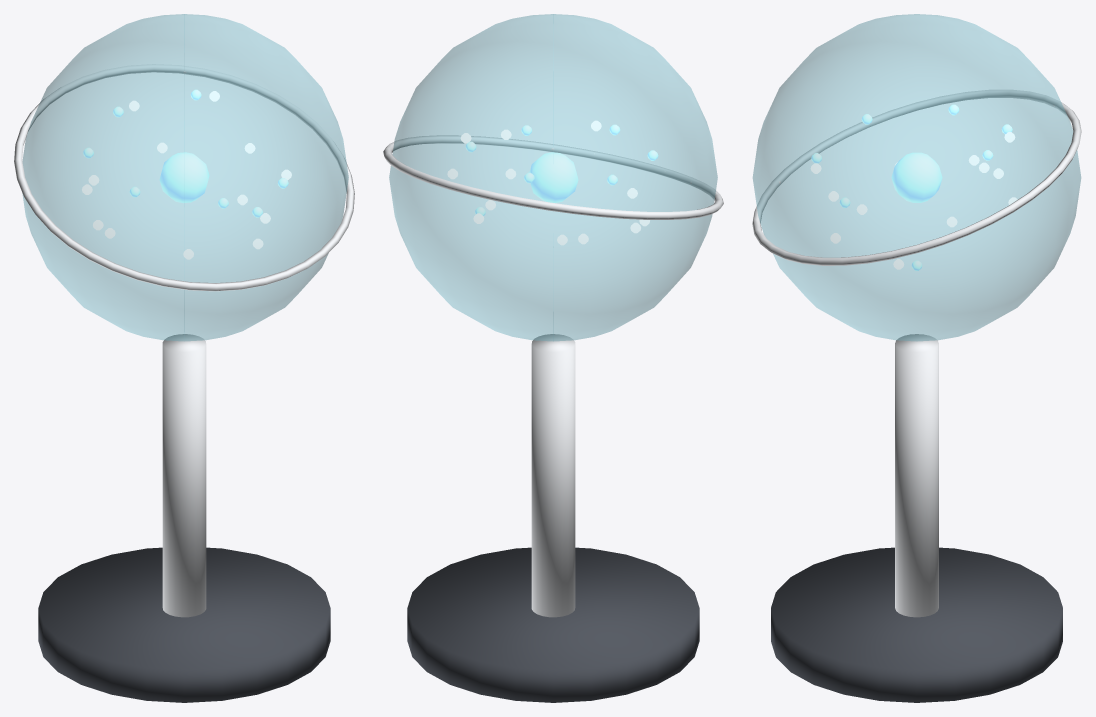
File: star_map_wall_globe.glb
The picture shows the model from 3 angles, left to right: view 1: azimuth 30°, elevation 25°; view 2: azimuth 150°, elevation 25°; view 3: azimuth 270°, elevation 25°; orthographic projection.
Visible parts, largest first — view 1: GD_star_map_wall_globe__m4, GD_star_map_wall_globe__m0, GD_star_map_wall_globe__m1, GD_star_map_wall_globe__m2, GD_star_map_wall_globe__m3; view 2: GD_star_map_wall_globe__m4, GD_star_map_wall_globe__m0, GD_star_map_wall_globe__m1, GD_star_map_wall_globe__m2, GD_star_map_wall_globe__m3; view 3: GD_star_map_wall_globe__m4, GD_star_map_wall_globe__m0, GD_star_map_wall_globe__m1, GD_star_map_wall_globe__m2, GD_star_map_wall_globe__m3.
Boxes of the visible parts, x1,y1,x2,y2 form: GD_star_map_wall_globe__m4: (22,14,348,341); GD_star_map_wall_globe__m0: (38,547,330,702); GD_star_map_wall_globe__m1: (14,64,354,617); GD_star_map_wall_globe__m2: (83,89,288,217); GD_star_map_wall_globe__m3: (82,91,291,259); GD_star_map_wall_globe__m4: (389,14,717,341); GD_star_map_wall_globe__m0: (407,547,699,702); GD_star_map_wall_globe__m1: (383,135,723,617); GD_star_map_wall_globe__m2: (465,124,658,215); GD_star_map_wall_globe__m3: (447,120,649,245); GD_star_map_wall_globe__m4: (752,14,1081,341); GD_star_map_wall_globe__m0: (771,547,1062,702); GD_star_map_wall_globe__m1: (752,89,1081,617); GD_star_map_wall_globe__m2: (811,104,1012,270); GD_star_map_wall_globe__m3: (810,132,1017,269).
Size of the model in its own units: 0.944 by 1.85 by 0.9018.
